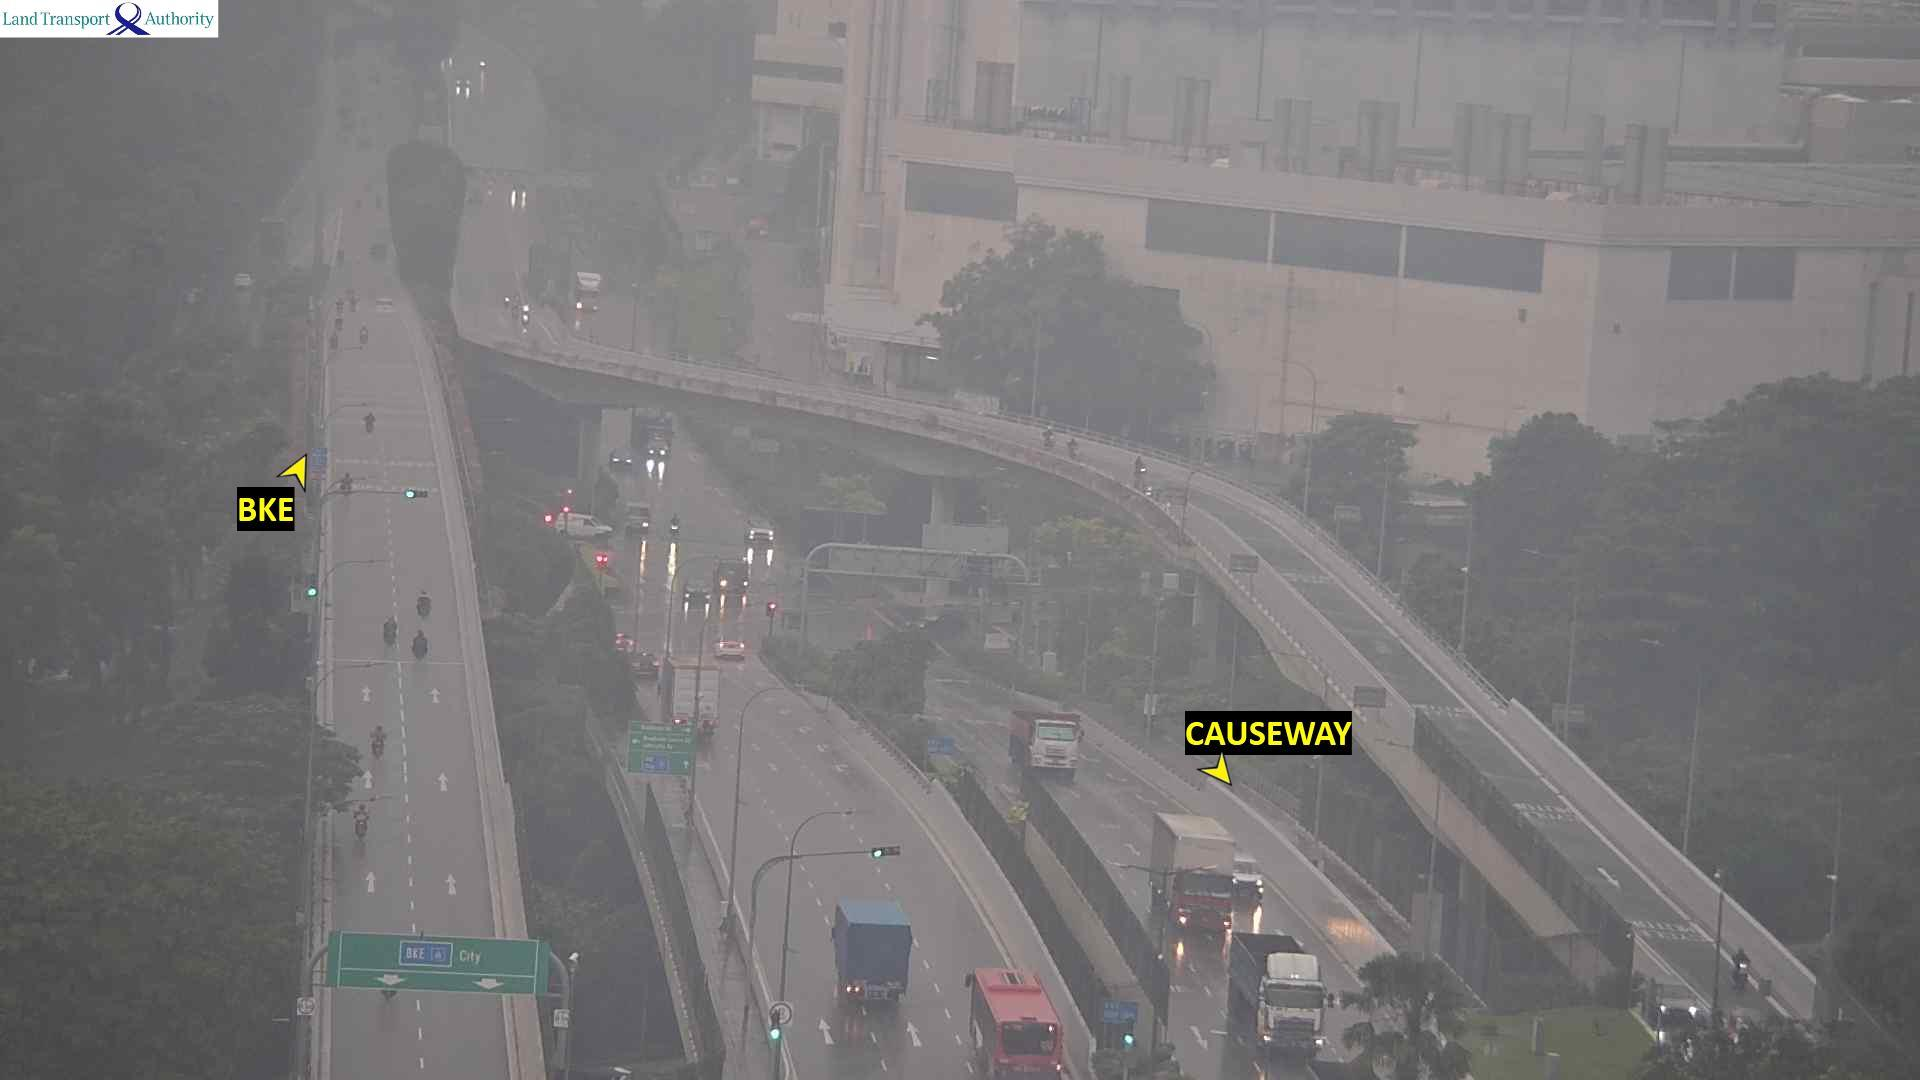vehicle-causeway-johor: (1229, 934, 1323, 1054), (1151, 815, 1241, 880), (1018, 704, 1085, 771), (1039, 427, 1076, 448), (1134, 454, 1146, 481)
vehicle-causeway-singapore: (976, 968, 1071, 1060), (832, 905, 914, 1005), (709, 641, 745, 661), (415, 592, 434, 616), (413, 634, 431, 658), (401, 485, 430, 500), (385, 612, 397, 646), (356, 804, 367, 837), (375, 725, 384, 757), (360, 411, 375, 431), (342, 472, 352, 497), (359, 323, 368, 343)
